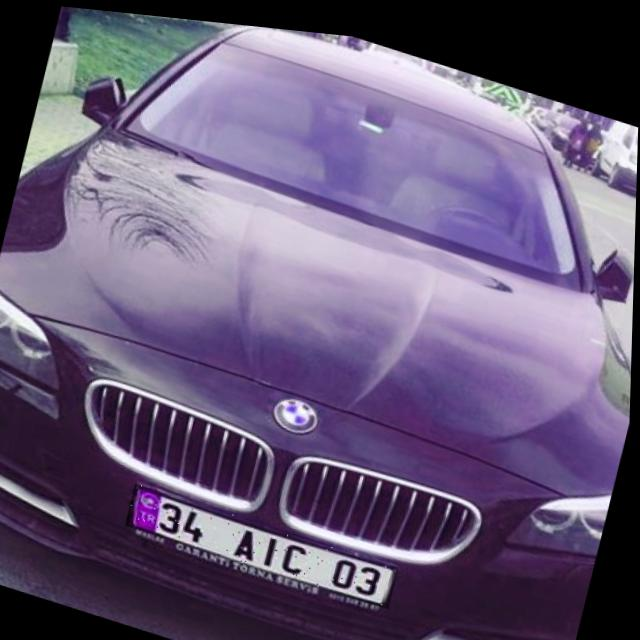license_plate: (126, 479, 403, 601)
